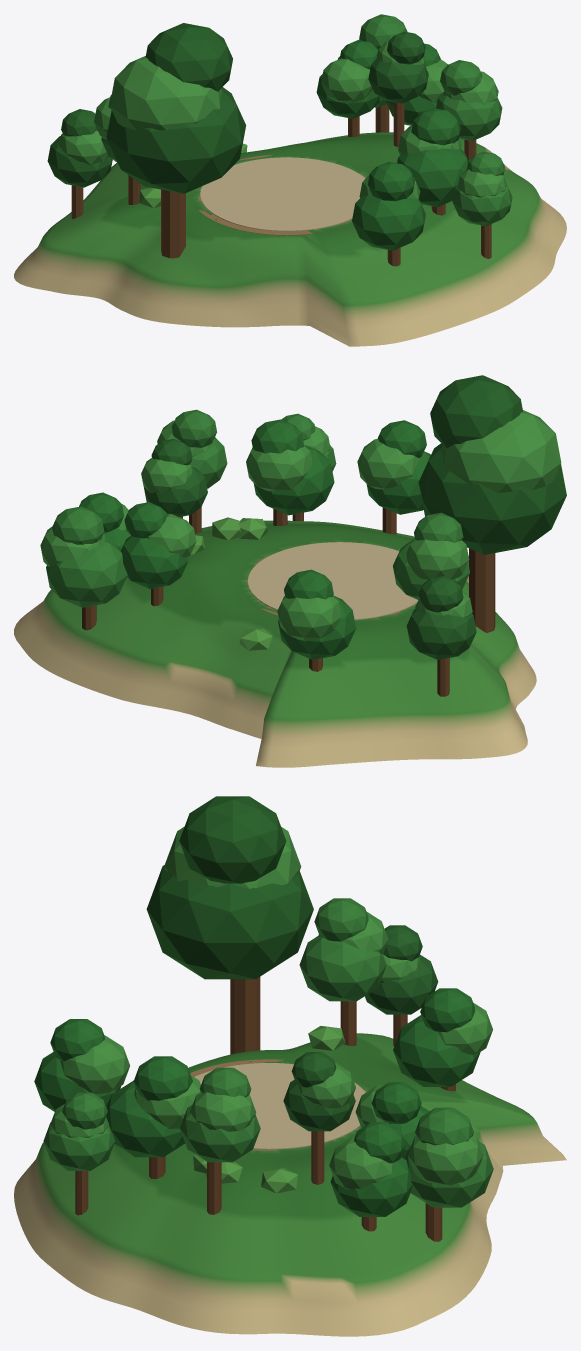
Rendered from island_south.glb.
3 renders of one model, top to bottom at view 1: azimuth 30°, elevation 25°; view 2: azimuth 150°, elevation 25°; view 3: azimuth 270°, elevation 25°, orthographic. The views are drawn at different scales.
Visible parts, largest first — view 1: Island_South_Jungle; view 2: Island_South_Jungle; view 3: Island_South_Jungle.
Part boxes in pixels (x1,y1,x2,y2): Island_South_Jungle: (14, 14, 566, 346); Island_South_Jungle: (14, 375, 566, 767); Island_South_Jungle: (14, 796, 566, 1336).
Bounding box in the file's own units: 21.82 × 11.9 × 18.5.
